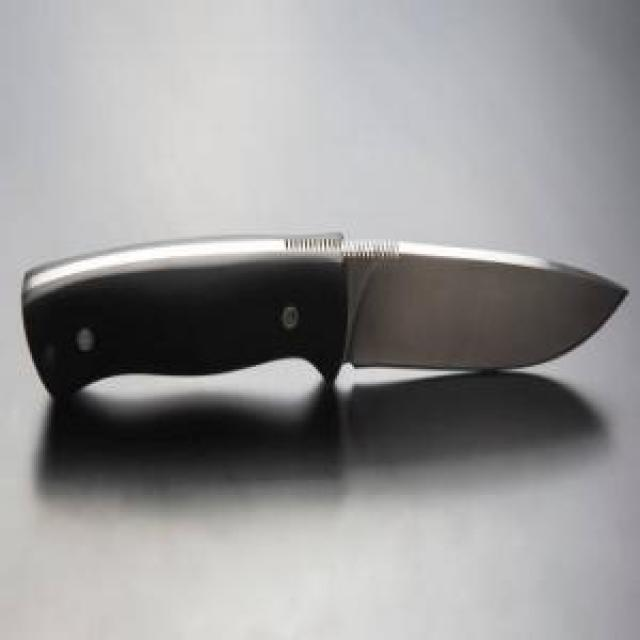knife: (21, 239, 632, 401)
